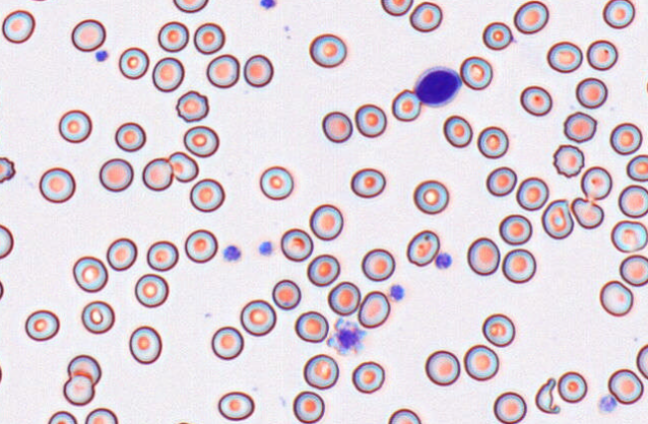LYM: (415, 65, 464, 109)
PLT: (337, 327, 359, 349), (434, 251, 453, 270), (223, 244, 242, 262), (257, 240, 275, 257), (388, 284, 404, 301), (258, 0, 279, 10), (95, 49, 109, 63)
RBC: (239, 299, 276, 336), (38, 166, 75, 203), (72, 255, 108, 292), (424, 349, 460, 386), (463, 344, 499, 381), (308, 33, 346, 68), (466, 236, 500, 275), (128, 325, 162, 364), (303, 353, 339, 389), (607, 368, 643, 404), (599, 279, 633, 316), (610, 219, 647, 253), (309, 203, 343, 240), (357, 290, 390, 328), (501, 248, 536, 283), (98, 157, 133, 192), (413, 179, 448, 214), (70, 18, 106, 52), (189, 178, 225, 212), (513, 0, 549, 34), (406, 229, 439, 266), (515, 176, 549, 211), (210, 325, 244, 360), (259, 165, 293, 200), (134, 273, 168, 307), (1, 9, 35, 43), (81, 300, 115, 334), (58, 109, 92, 143), (481, 313, 515, 347), (327, 281, 360, 316), (184, 228, 217, 263), (206, 53, 239, 88), (459, 55, 492, 90), (152, 56, 184, 92), (183, 125, 219, 157), (546, 41, 582, 73), (280, 227, 313, 261), (306, 253, 340, 286), (294, 310, 328, 343), (361, 248, 395, 281), (354, 103, 387, 137), (580, 165, 612, 200), (24, 309, 59, 341), (217, 391, 254, 421), (609, 122, 642, 155), (351, 360, 384, 393), (175, 90, 209, 122), (563, 111, 597, 143), (498, 213, 532, 245), (350, 167, 385, 198), (552, 144, 584, 177), (493, 391, 526, 423), (292, 390, 324, 423), (67, 354, 101, 385), (142, 157, 173, 191), (106, 237, 137, 271), (193, 22, 225, 54), (575, 77, 607, 109), (321, 110, 352, 143), (519, 85, 552, 116), (409, 1, 442, 32), (477, 125, 508, 158), (118, 46, 149, 79), (146, 240, 178, 271), (157, 21, 189, 52), (114, 121, 146, 152), (586, 39, 618, 70), (391, 88, 421, 121), (442, 114, 472, 147), (243, 54, 273, 87), (618, 184, 647, 218), (63, 375, 94, 406), (557, 371, 587, 403), (485, 166, 517, 196), (602, 0, 635, 29), (271, 279, 301, 310), (619, 254, 647, 286), (482, 21, 512, 50), (626, 154, 647, 181), (84, 407, 118, 423), (380, 0, 413, 16), (387, 408, 421, 423), (0, 223, 14, 259), (172, 0, 208, 13), (636, 343, 648, 379), (0, 156, 15, 183), (47, 410, 77, 423), (644, 71, 648, 97), (0, 77, 3, 111), (0, 276, 4, 301), (0, 120, 3, 149), (0, 357, 3, 385), (173, 421, 198, 424), (25, 0, 59, 2)
Schistocyte: (542, 199, 575, 239), (570, 197, 604, 229), (534, 374, 561, 414), (168, 151, 198, 183)
